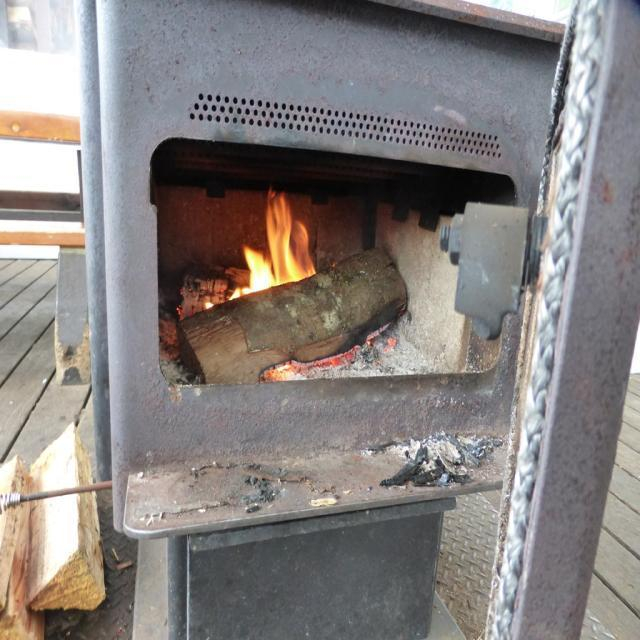Fire: (242, 182, 318, 288)
